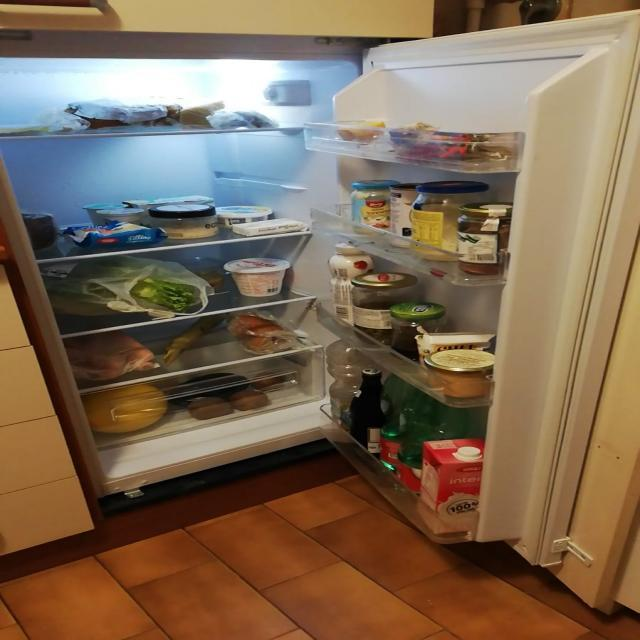apple: (244, 329, 296, 353), (230, 314, 272, 334)
butter: (229, 219, 318, 236)
carrots: (62, 337, 166, 383)
cheese: (77, 222, 162, 251), (154, 220, 227, 241)
lemon: (331, 116, 394, 147)
milk: (417, 440, 488, 533)
yoghurt: (126, 196, 224, 216), (80, 200, 146, 226)
